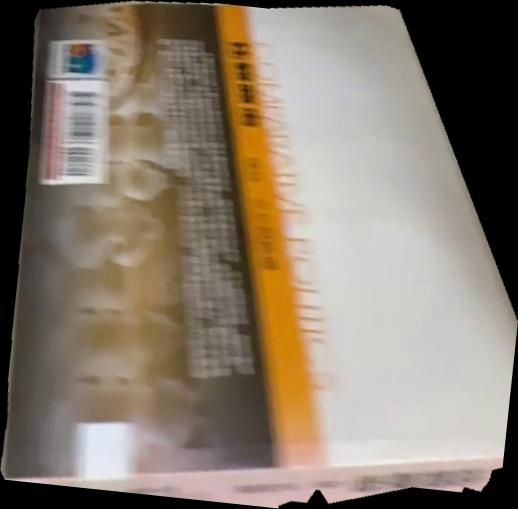flat: (1, 1, 518, 509)
